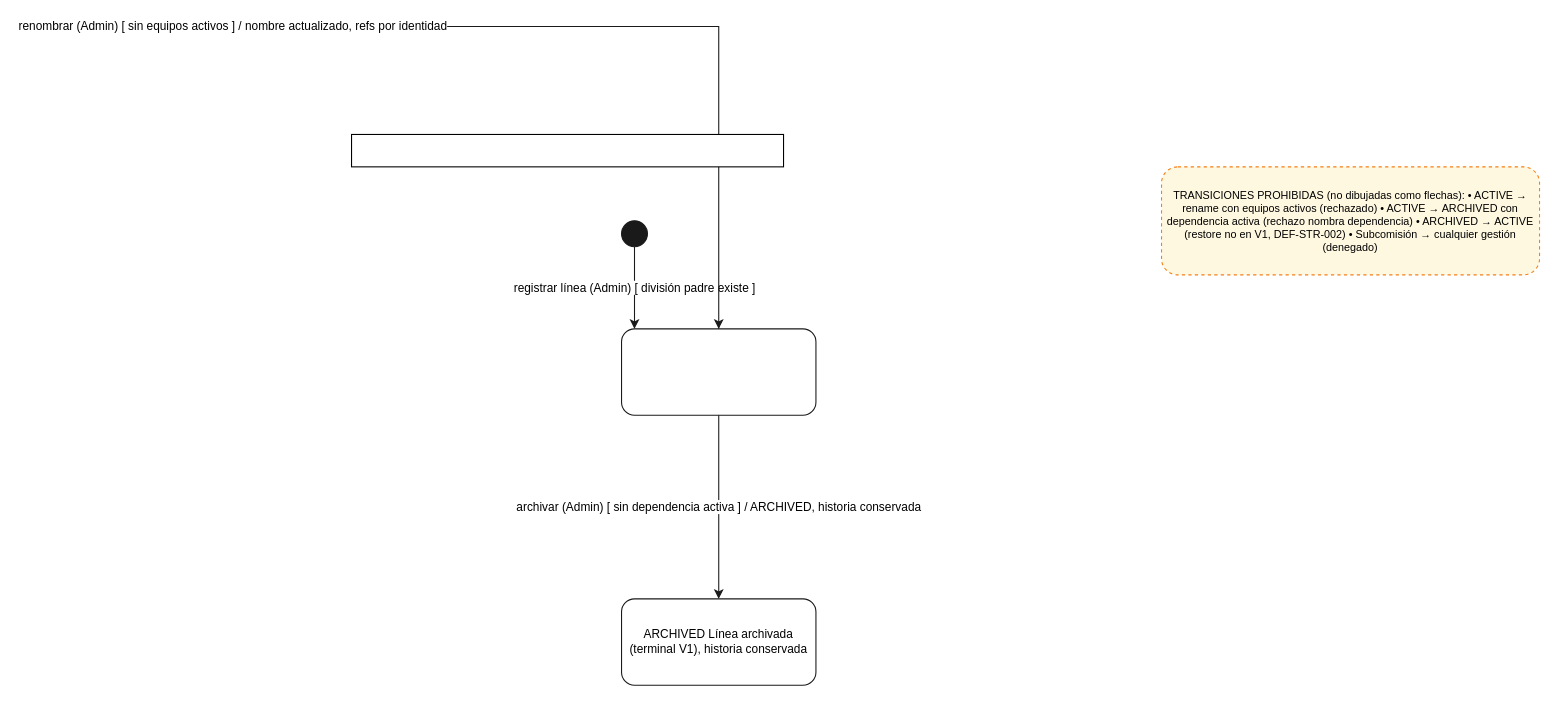
This 1558x704 diagram has some shape labels left out. Here are the shapes that lost their labels. From the top down, the centre of each, then its label:
At [567,150]: "Line Lifecycle".
At [718,371]: "ACTIVE Línea creada en división, disponible para equipos".
